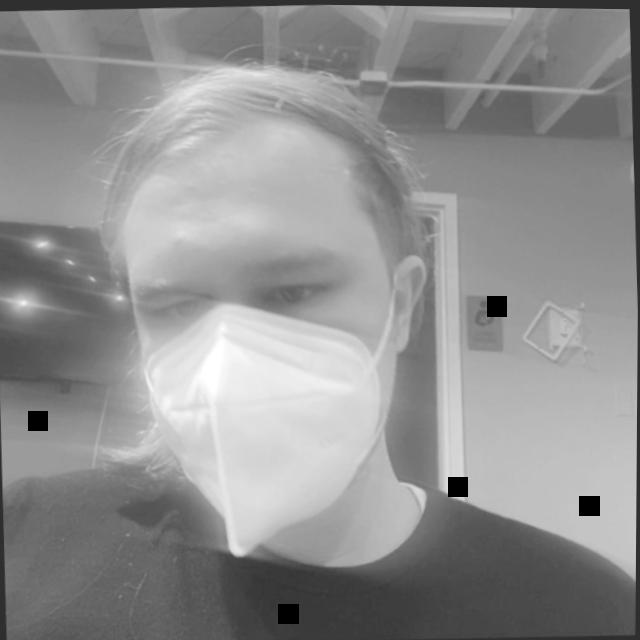Mask: (104, 48, 514, 588)
